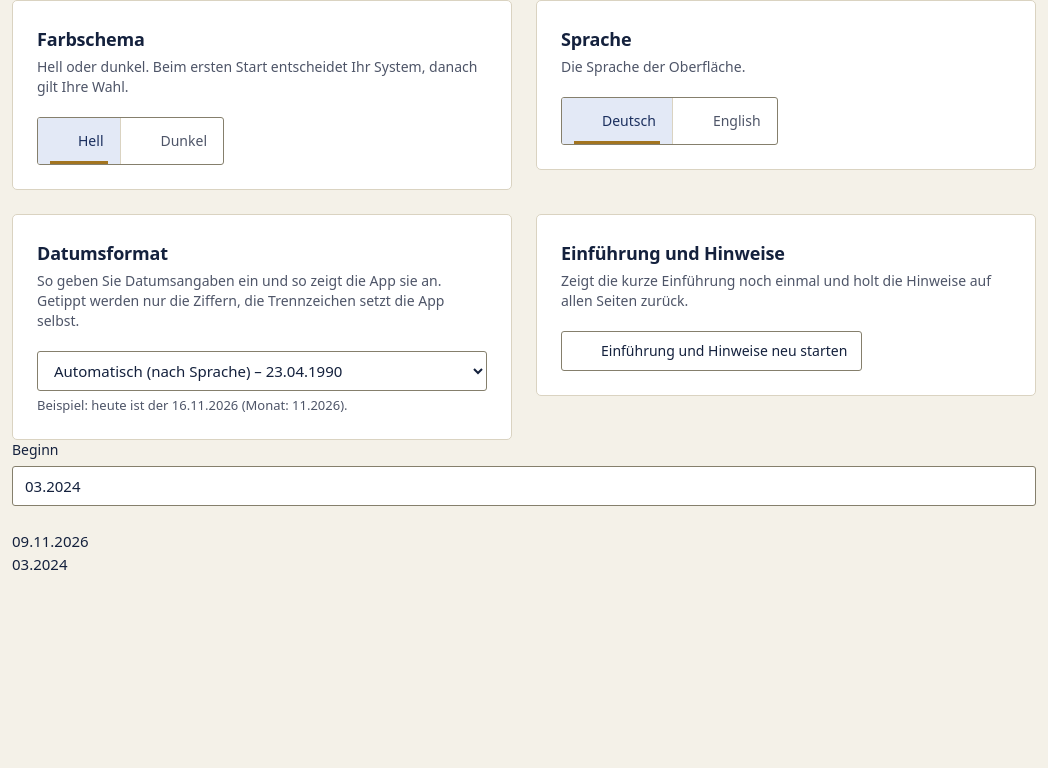
Test: Settings > Appearance: date format › changes every field and display of the app at once
Expected: the field labelled "Beginn" holds "03.2024", [12,466,1036,506]
Expected: the text with test id "shown" reads "09.11.2026", [12,531,89,551]
Select "JJJJ/MM/TT – 1990/04/23" in the dropdown named "Datumsformat" at (262, 371), box [37,351,487,391]
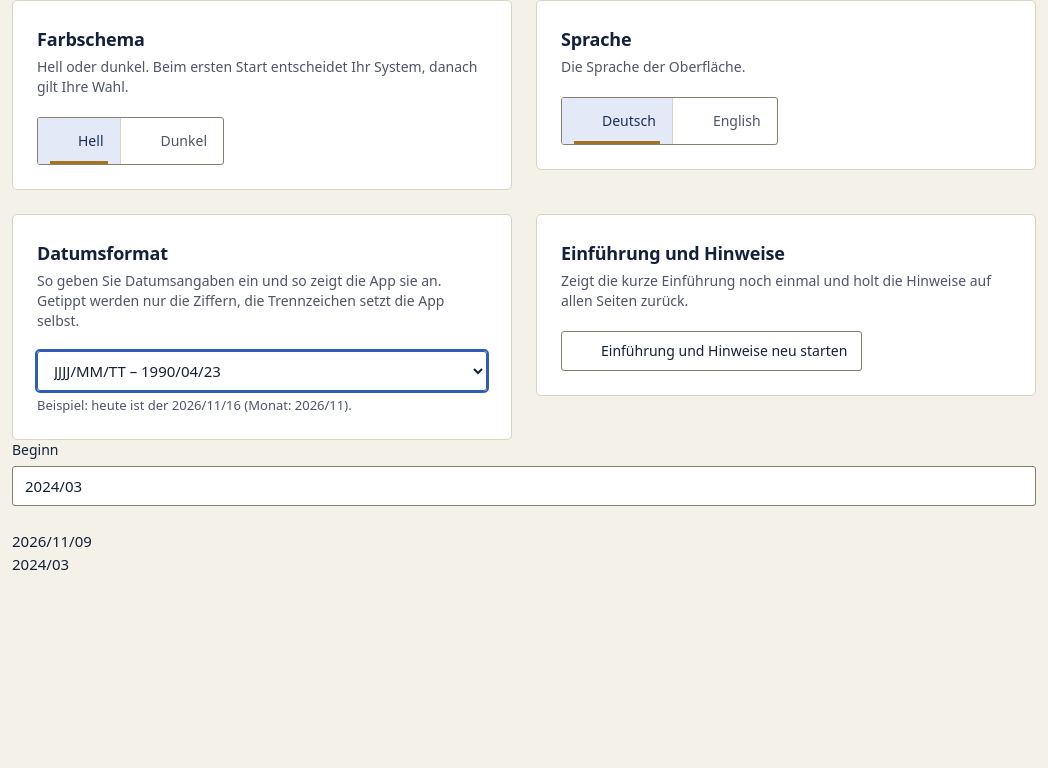
Now the field labelled "Beginn" holds "2024/03", box [12,466,1036,506]
Now the text with test id "shown" reads "2026/11/09", box [12,531,92,551]
Now the text with test id "card" reads "2024/03", box [12,554,69,574]
Select "Automatisch (nach Sprache) – 23.04.1990" in the dropdown named "Datumsformat" at (262, 371), box [37,351,487,391]
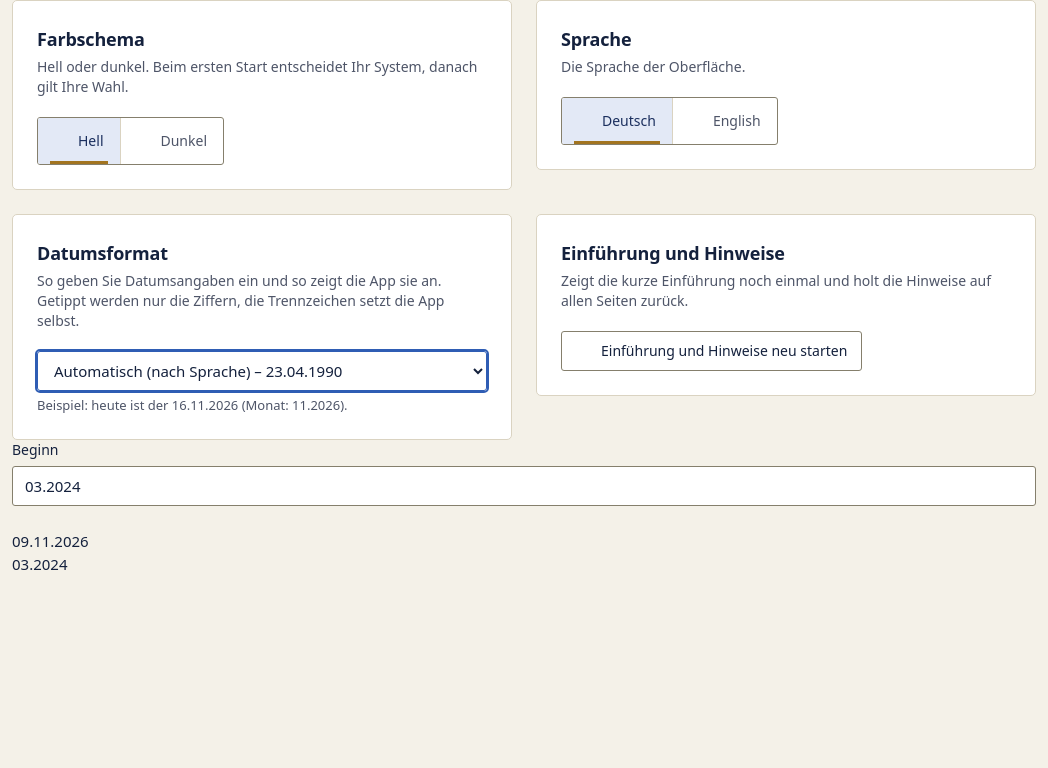
Now the field labelled "Beginn" holds "03.2024", box [12,466,1036,506]
